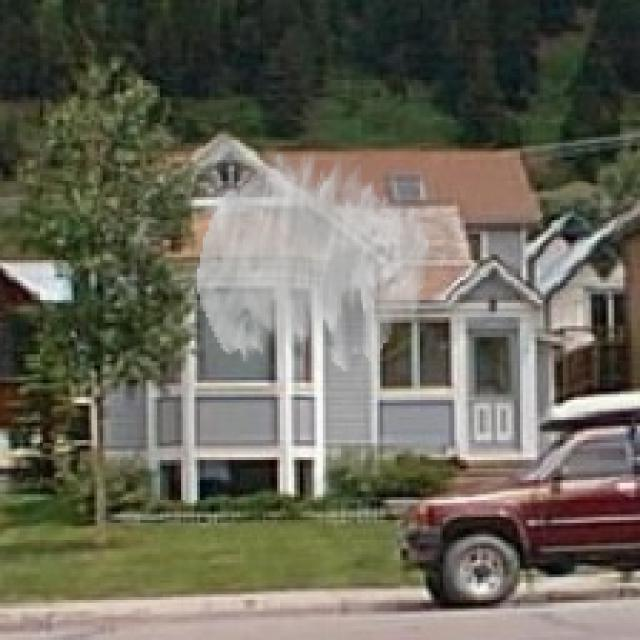Smoke: (197, 148, 429, 372)
